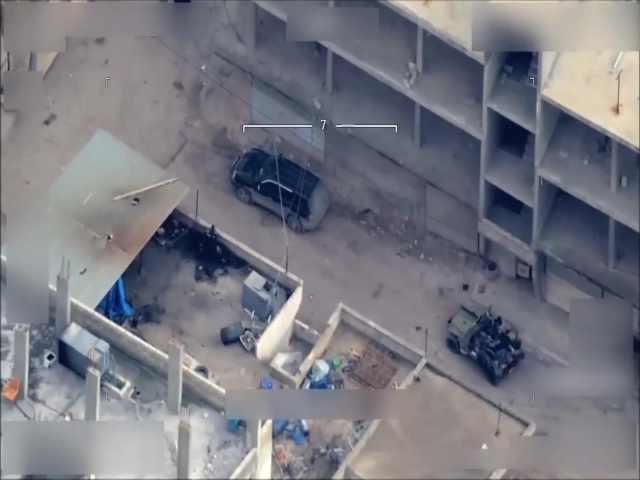vehicle: (230, 145, 331, 233), (445, 295, 528, 387)
